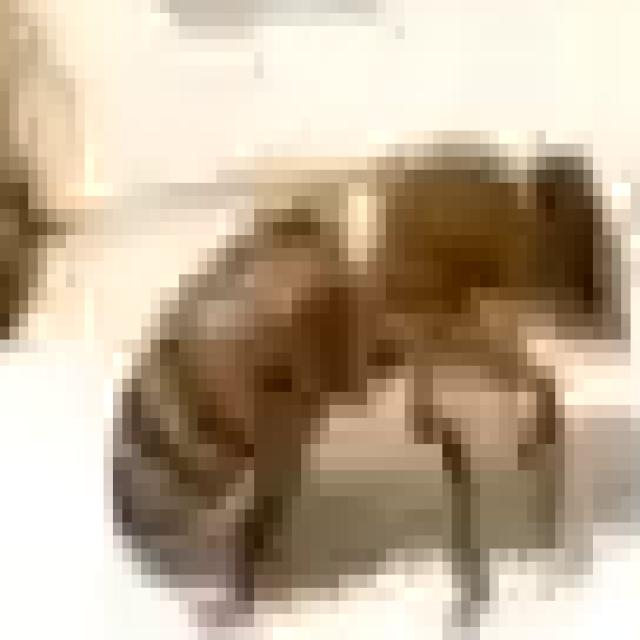honeybee: (117, 134, 630, 592)
